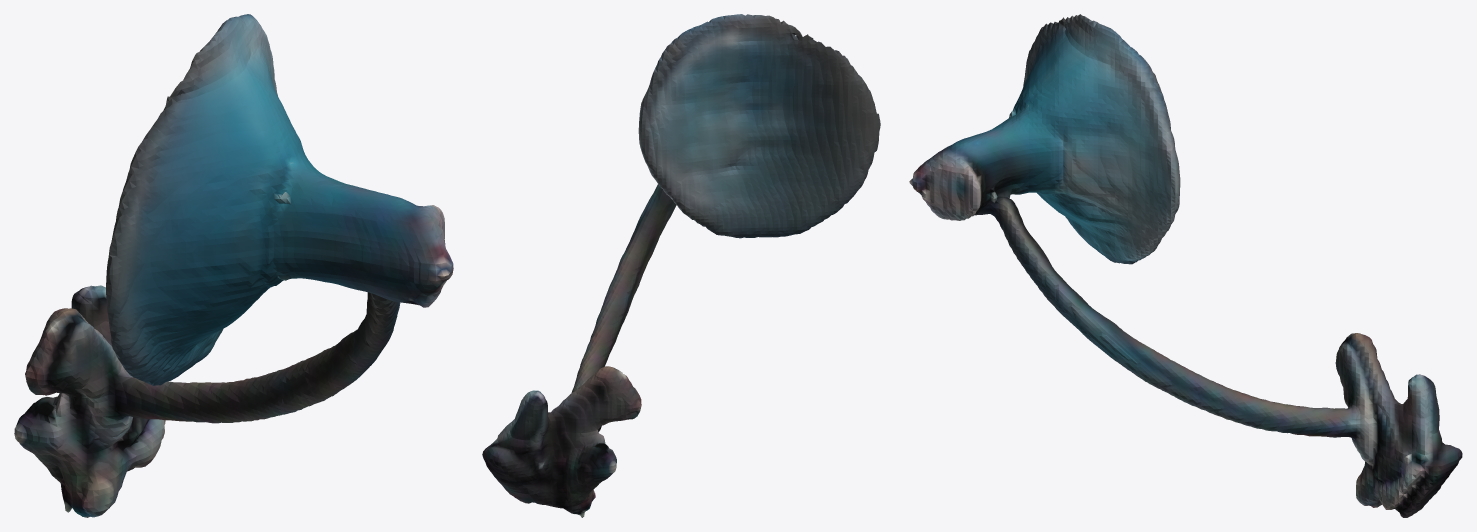
The picture shows the model from 3 angles, left to right: view 1: azimuth 30°, elevation 25°; view 2: azimuth 150°, elevation 25°; view 3: azimuth 270°, elevation 25°; orthographic projection. The views are drawn at different scales.
Size of the model in its own units: 0.4338 by 0.8119 by 0.8772.
